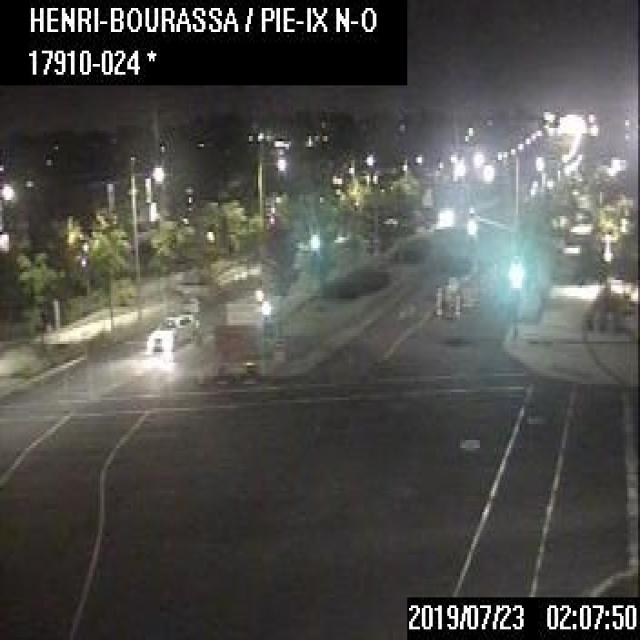construction: (200, 301, 273, 384), (431, 245, 485, 315), (442, 283, 450, 316), (433, 284, 440, 313), (453, 291, 459, 313)
vehicle: (146, 312, 194, 352)
